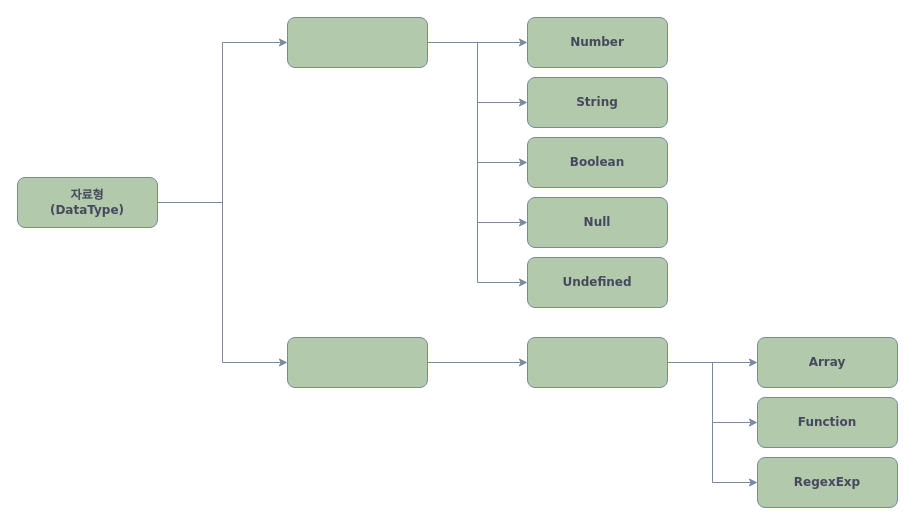
Image size: 915x525. Some labels were removed from this diagram. The shapes that lost their labels are listed below. From the top down, each one's centre as x and y in pixels, then its label:
(357,42): 원시 타입
(357,362): 객체 타입
(597,362): Object
